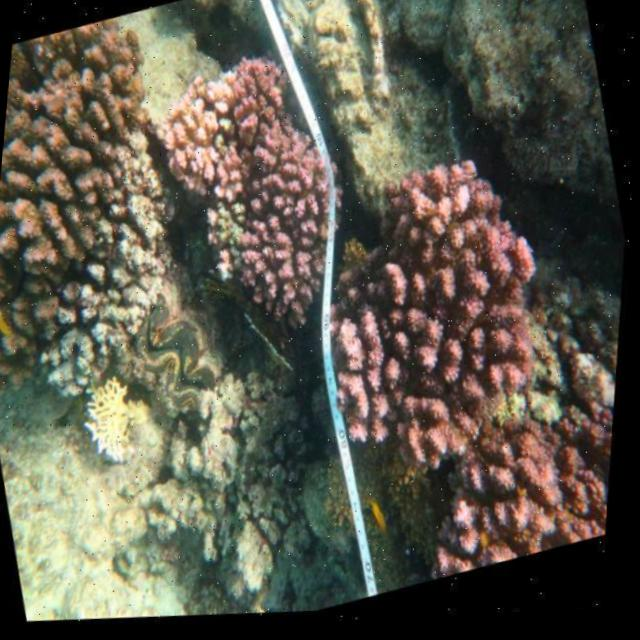Bleached Coral: (78, 170, 167, 400), (81, 382, 149, 458)
Healthy Coral: (285, 149, 580, 490), (140, 54, 365, 327), (440, 392, 622, 590), (0, 47, 103, 343)
